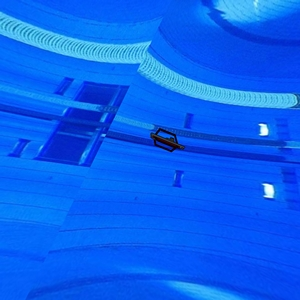submarine: (148, 125, 191, 159)
